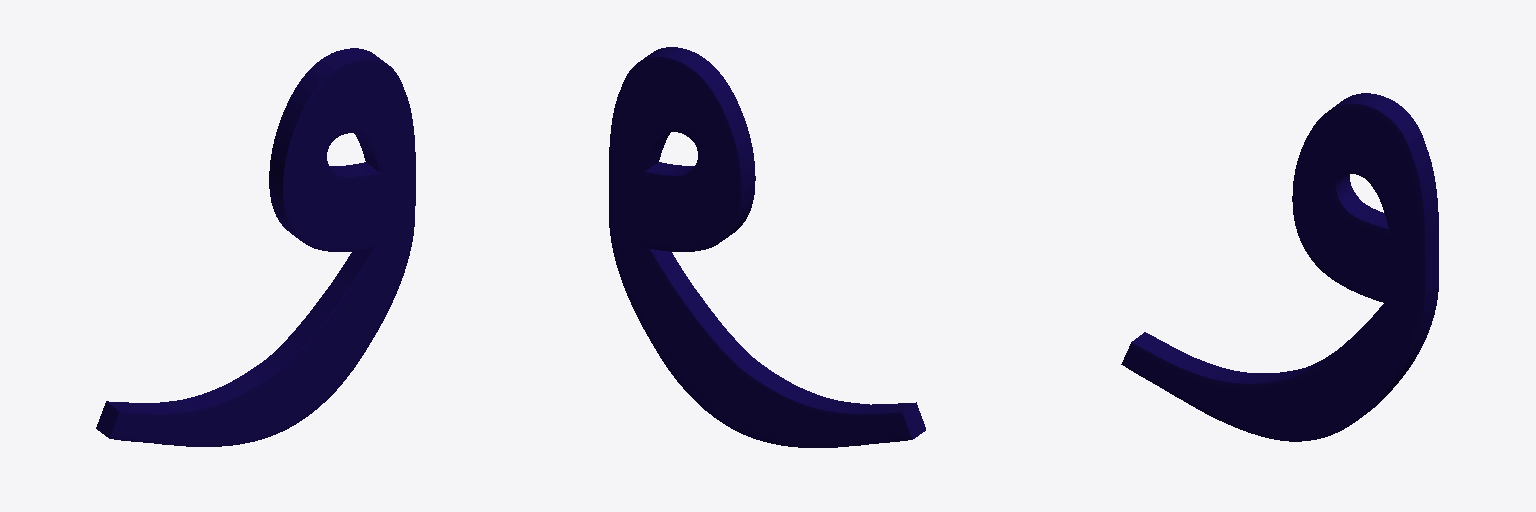
File: Waw.obj
3 views of the same model, side by side, from view 1: azimuth 30°, elevation 25°; view 2: azimuth 150°, elevation 25°; view 3: azimuth 330°, elevation 25° (orthographic).
Visible parts, largest first — view 1: Curve.025; view 2: Curve.025; view 3: Curve.025.
Boxes of the visible parts, box(x1,y1,x2,y2) form: Curve.025: box(96, 48, 415, 446); Curve.025: box(609, 47, 925, 447); Curve.025: box(1121, 93, 1438, 441).
Bounding box in the file's own units: 2.73 × 3.07 × 0.2496.